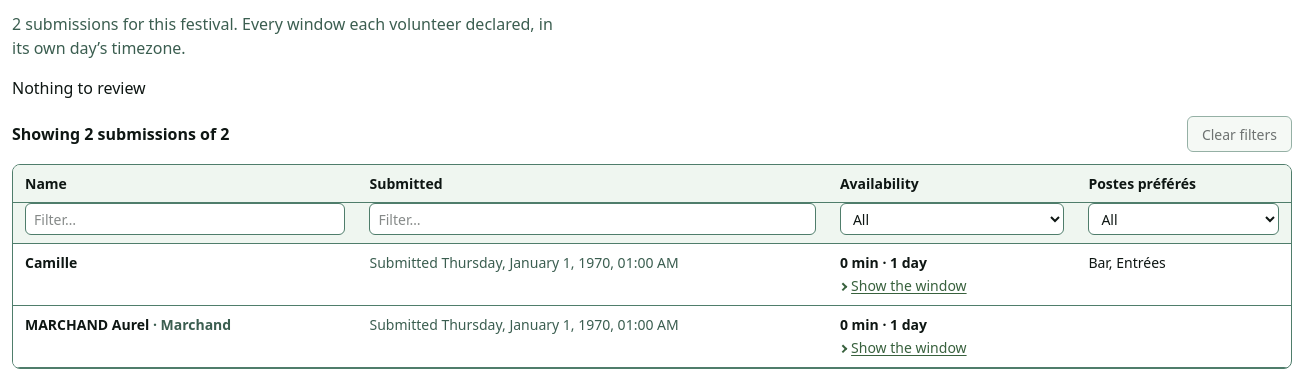
Scenario: PlanSubmissionsView › narrows the rows with a column filter and counts what is left
Expected: the message with class "evp-table-count" reads "Showing 2 submissions of 2", [12,123,230,145]
Type "marchand" into the 1st search field with placeholder "Filter…". click: (185, 219)
box: [25,203,346,235]
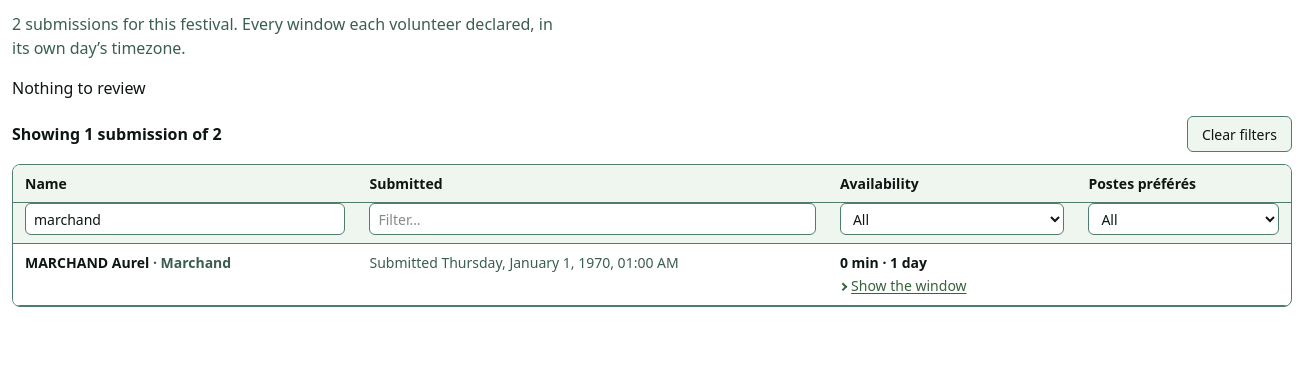
Expected: the elements with class "evp-submission-name" read "MARCHAND Aurel · Marchand", in this order, [13,244,358,306]
Expected: the message with class "evp-table-count" reads "Showing 1 submission of 2", [12,123,222,145]
Click the button "Clear filters". click: click(1239, 134)
box: [1187,116,1292,152]
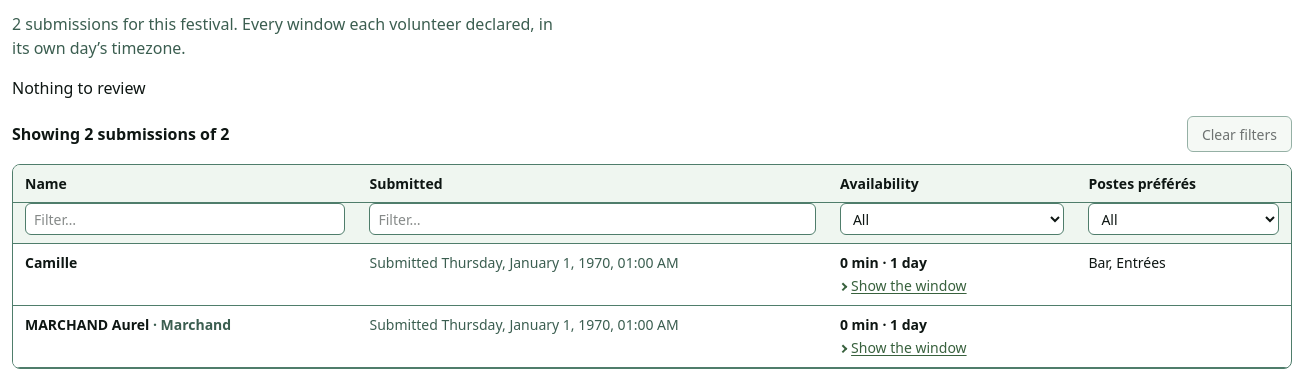
Expected: the number of rows with class "evp-submission" is 2, [13,244,1291,306]; [13,306,1291,368]
